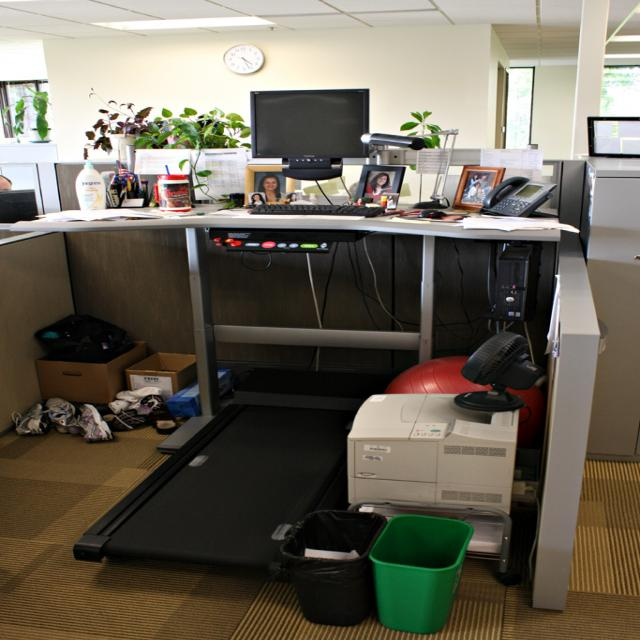desk: (0, 200, 603, 613)
keyboard: (247, 204, 386, 217)
tv: (249, 88, 370, 162), (587, 117, 639, 159)
